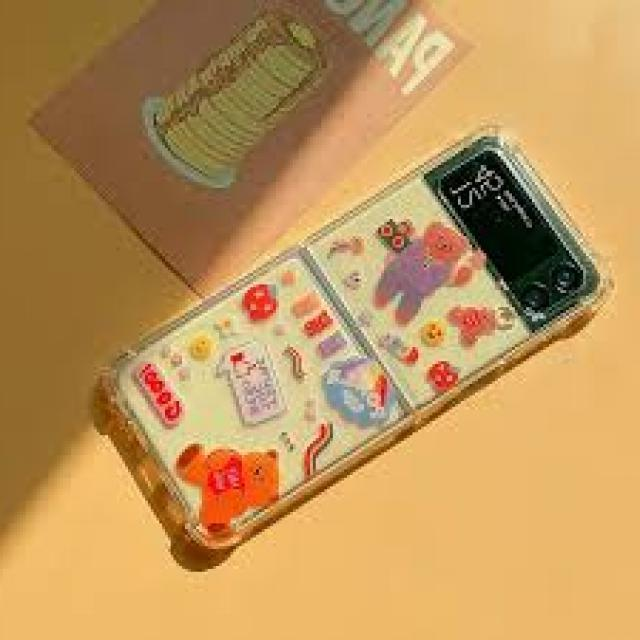mobile: (74, 117, 624, 582)
